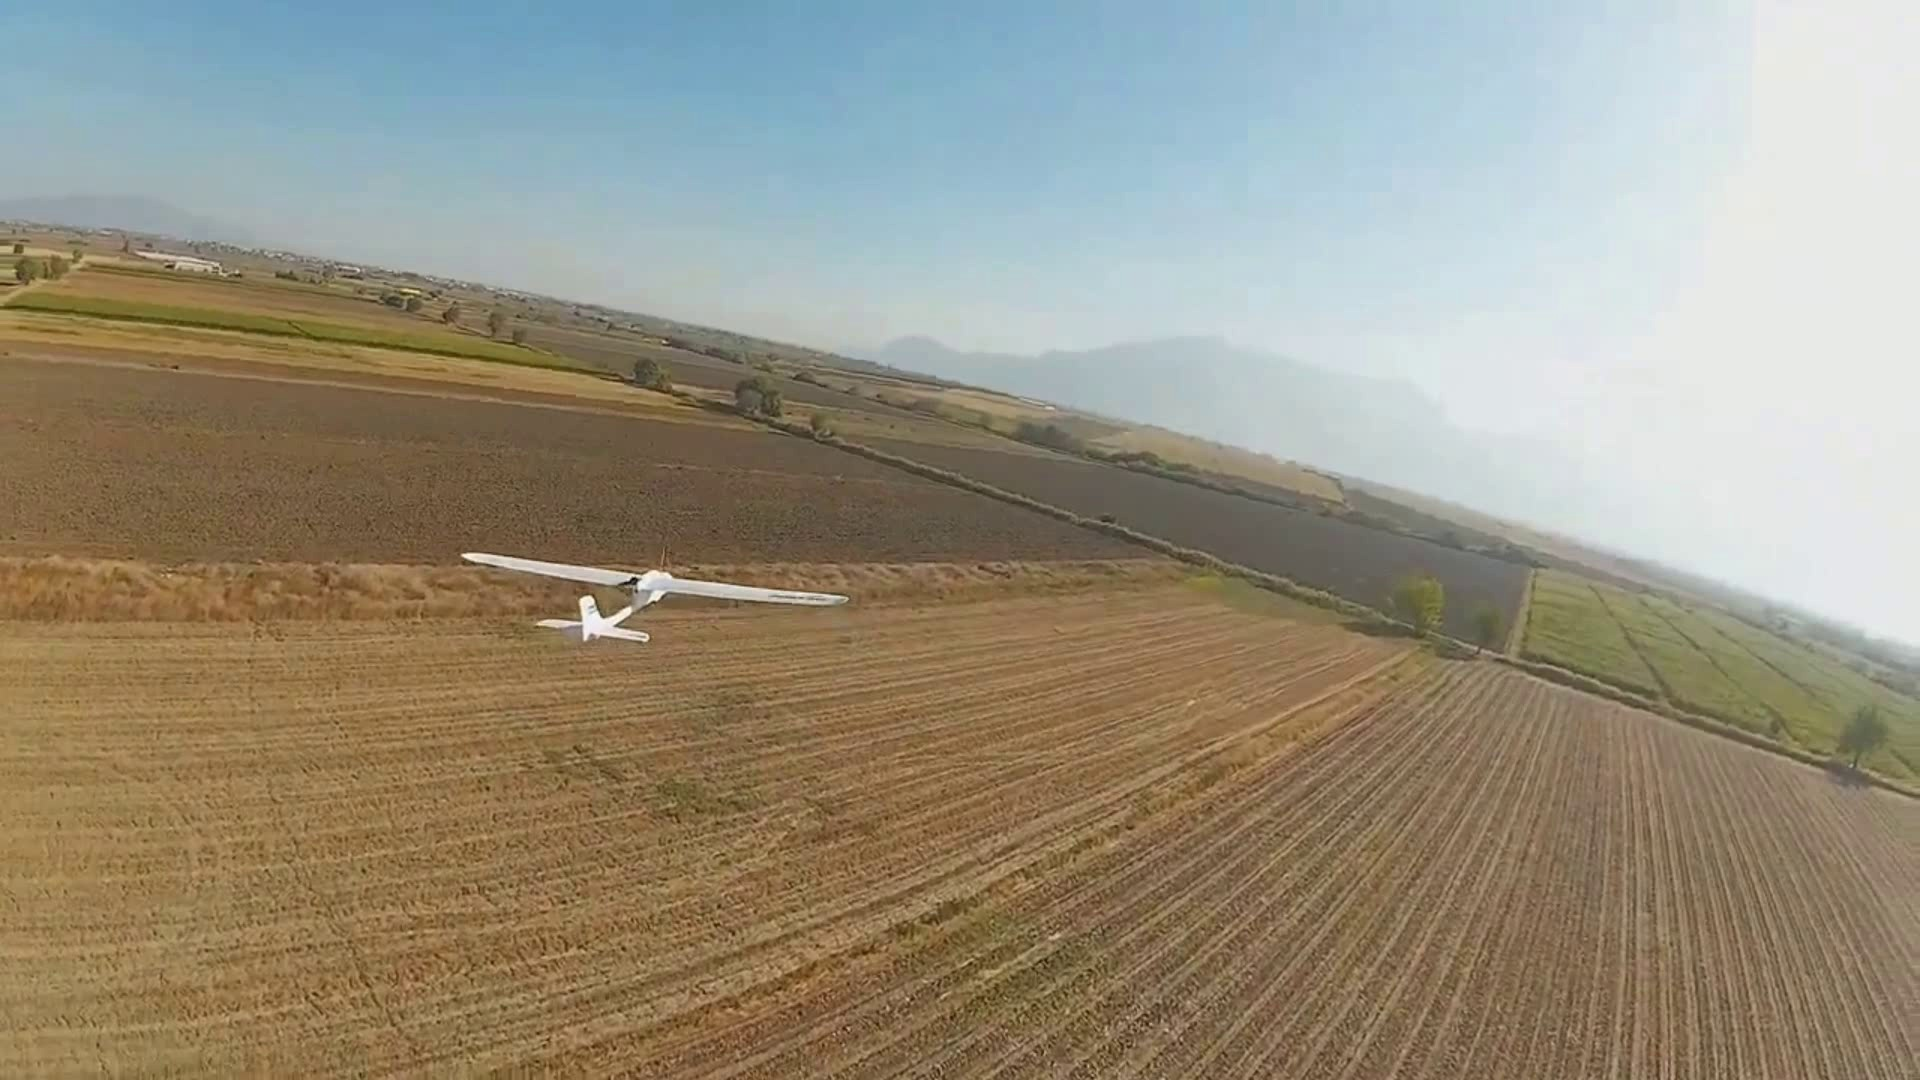airplane: (461, 547, 849, 643)
